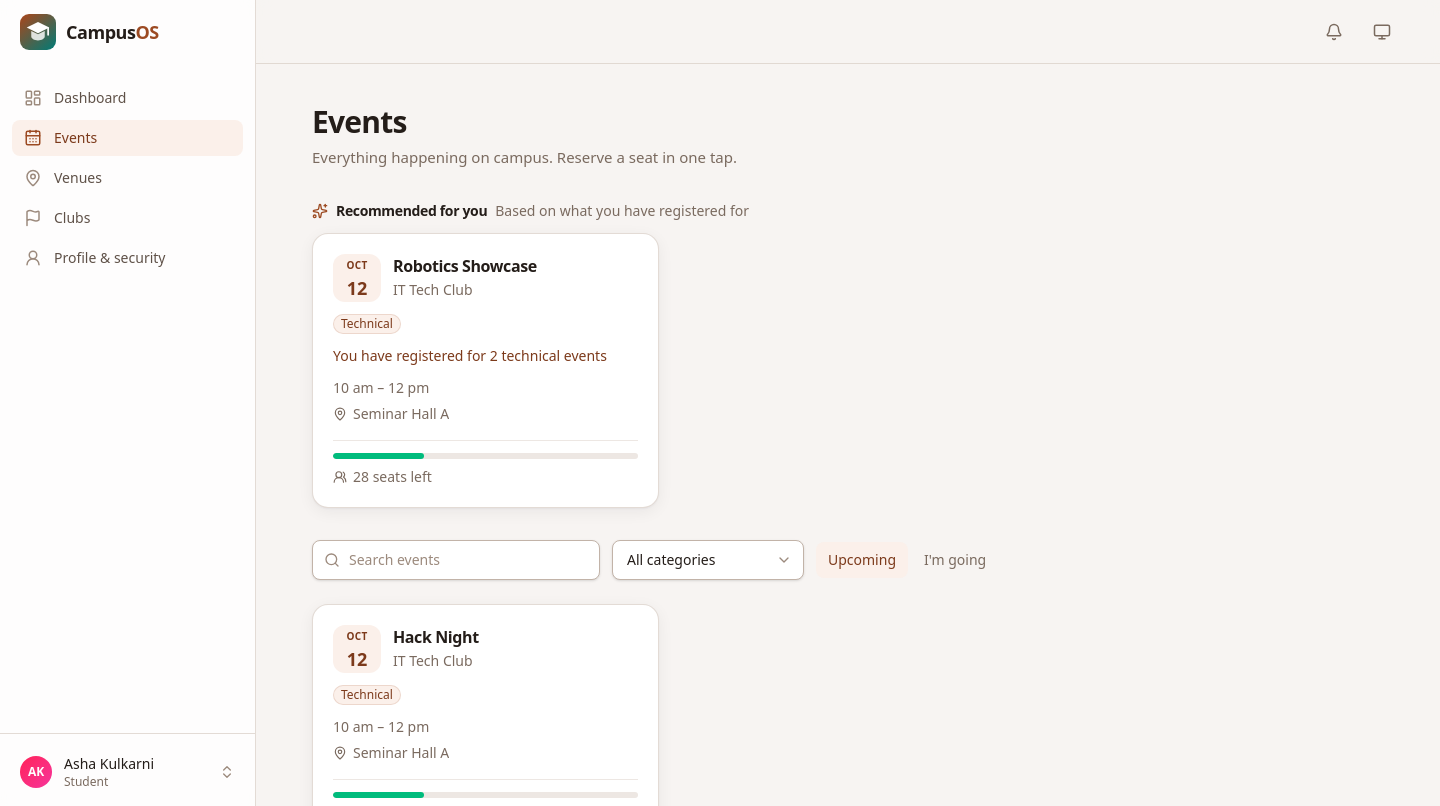
Scenario: recommendations (FR17) › explains why each event is recommended, and only on the unfiltered feed
Check: the text "You have registered for 2 technical events" is shown, box 333,346 -> 638,366
Check: the text "Based on what you have registered for" is shown, box 495,200 -> 749,220
# Filtering is an explicit search - suggestions would only be in the way.
Select "Cultural" in the dropdown named "Filter by category" at (708, 560), box 612,540 -> 804,580
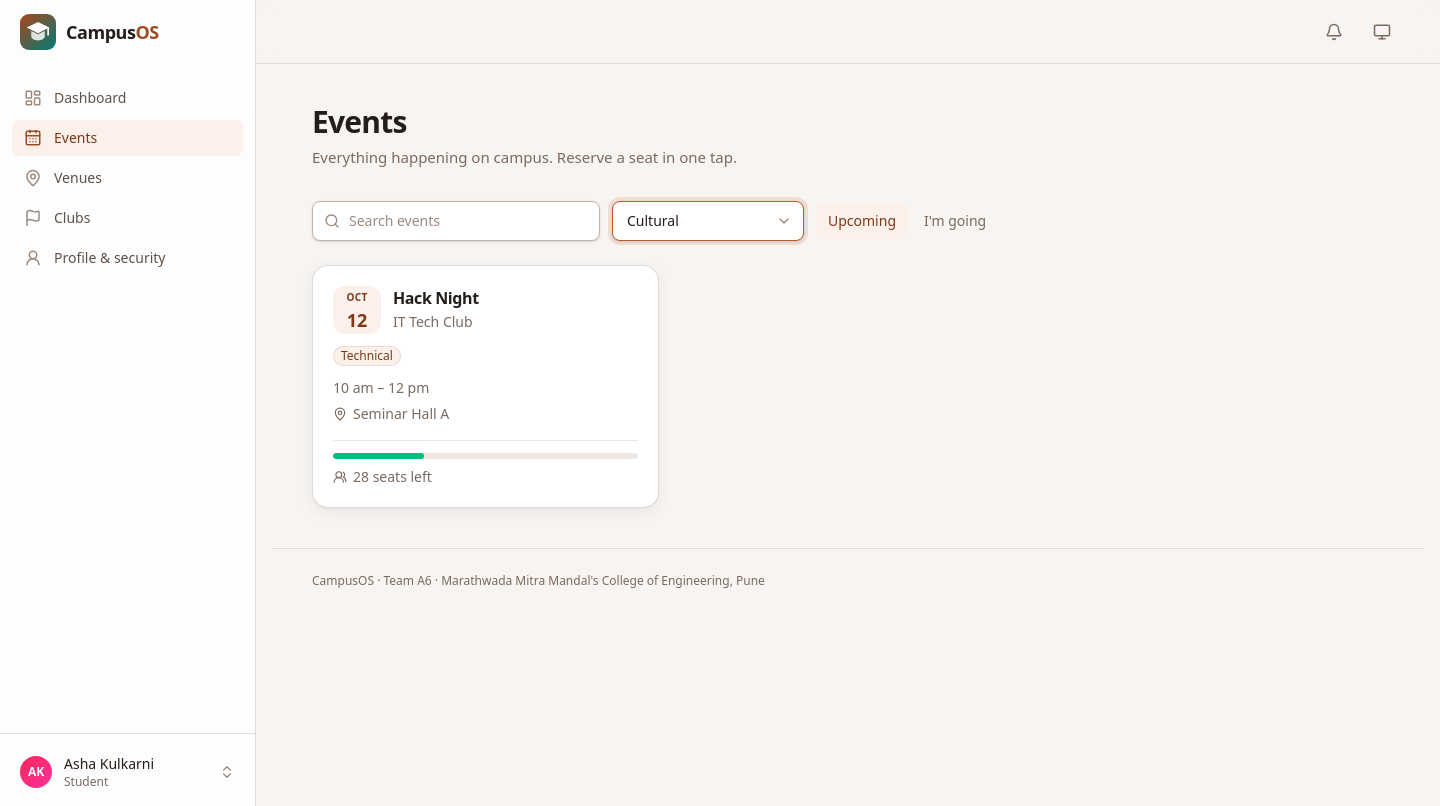
Check: the heading "Recommended for you" is gone
